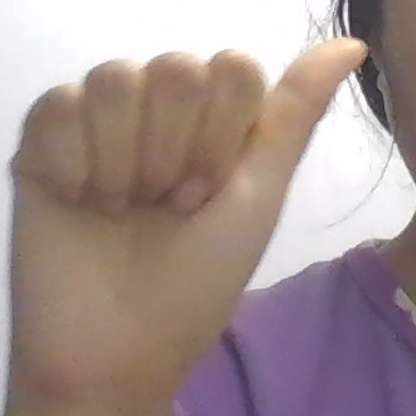A: (10, 38, 367, 394)
